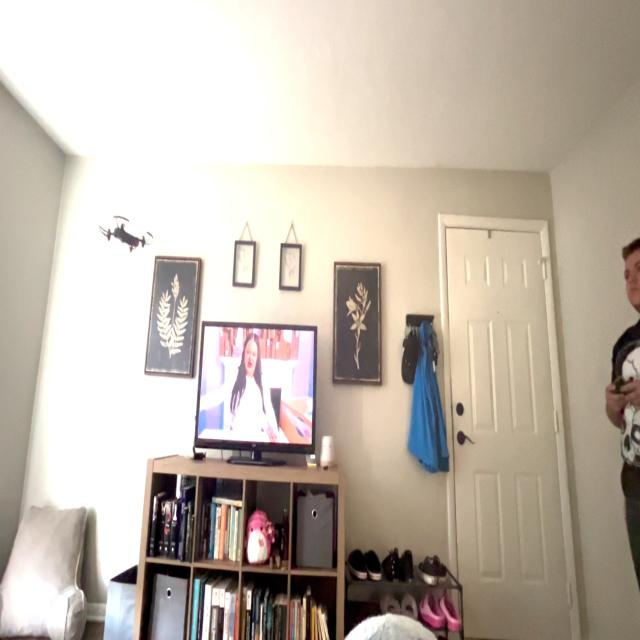drone: (92, 200, 164, 260)
